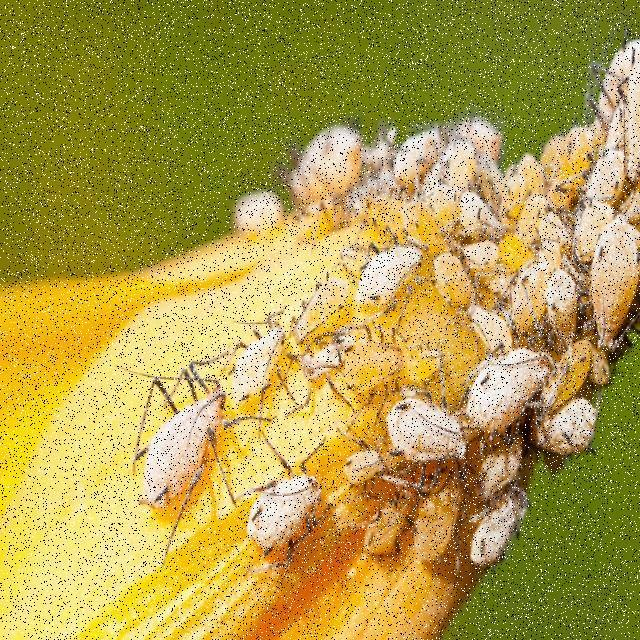Aphids: (97, 360, 235, 534), (248, 441, 331, 568), (378, 369, 469, 473), (457, 349, 556, 439), (462, 484, 546, 590), (225, 302, 295, 425), (406, 456, 474, 578), (541, 388, 602, 474)
